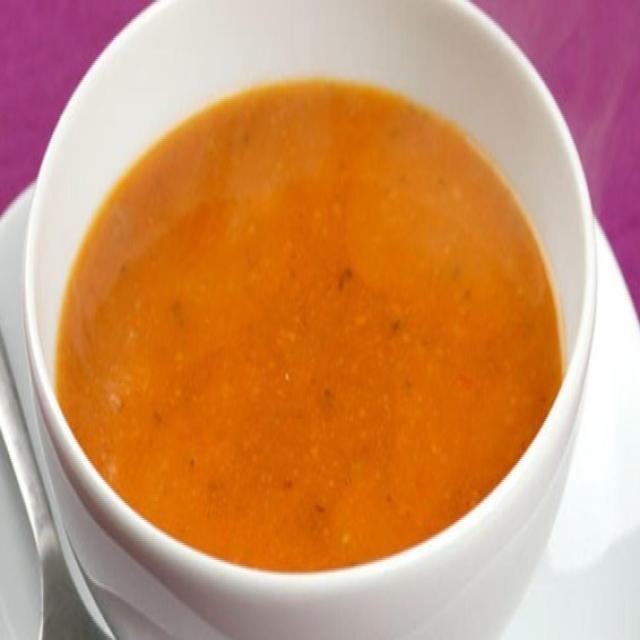corba: (21, 0, 600, 638)
